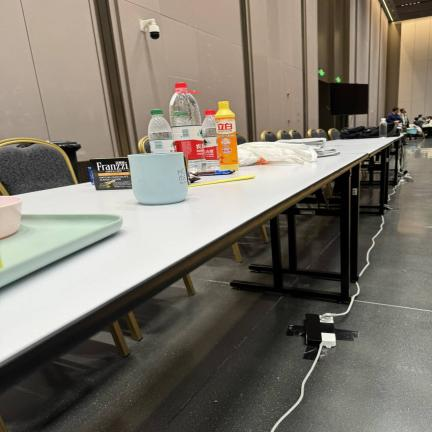cup: (128, 153, 187, 205)
